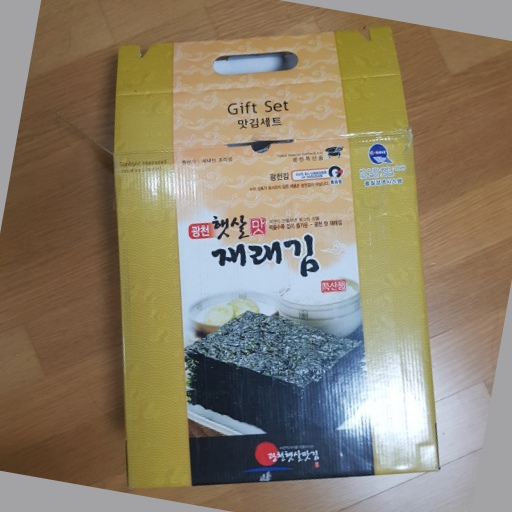Paper_0: (107, 22, 448, 494)
